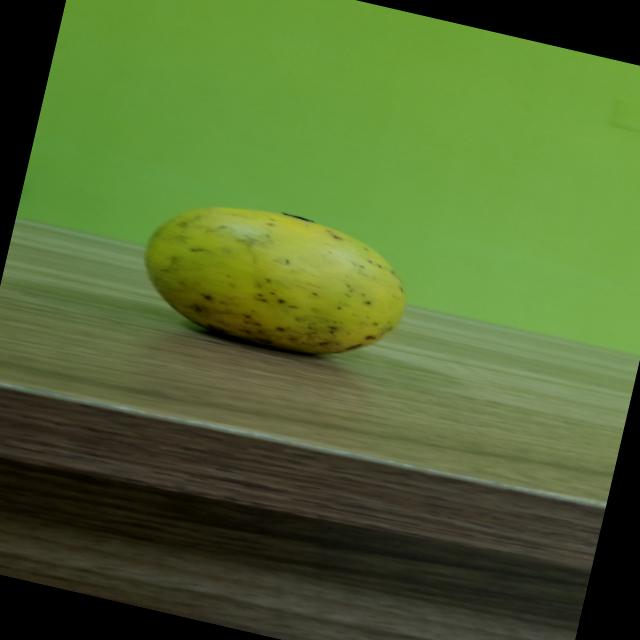Ripe orange: (128, 172, 415, 383)
